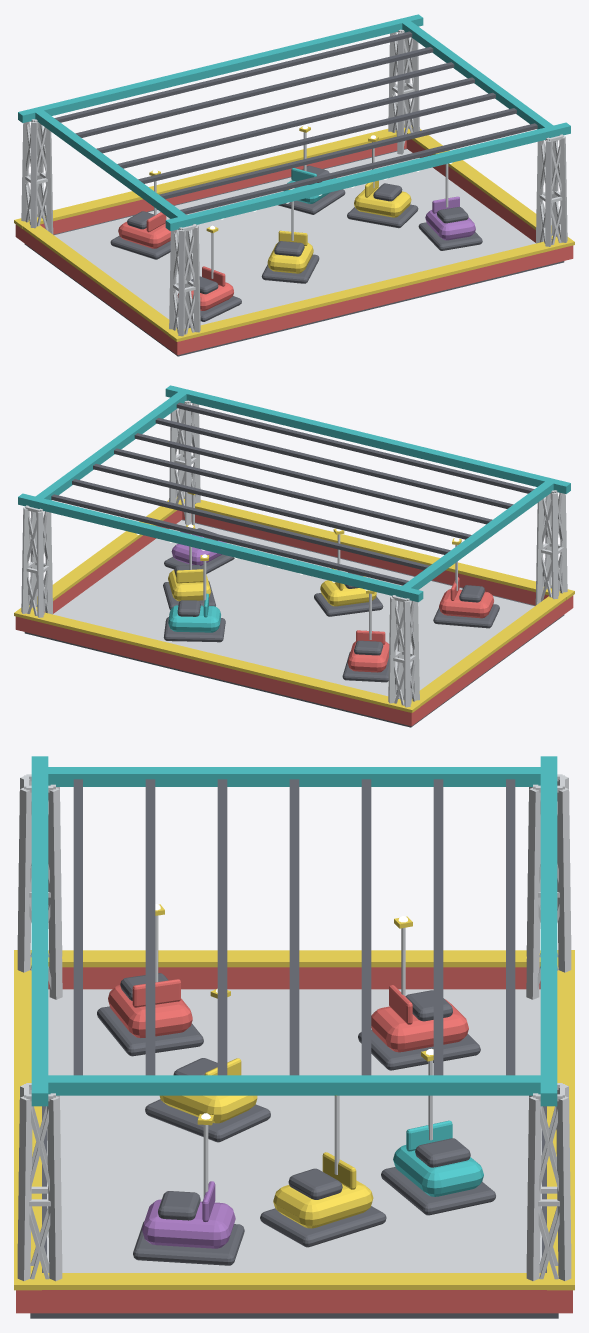
File: theme-park-rides-and-coasters-theme-park-rides-and-coa-c59d60f4__28661.glb
3 renders of one model, top to bottom at view 1: azimuth 30°, elevation 25°; view 2: azimuth 150°, elevation 25°; view 3: azimuth 270°, elevation 25°, orthographic. The views are drawn at different scales.
Visible parts, largest first — view 1: theme-park-rides-and-coasters-bumper-car-arena; view 2: theme-park-rides-and-coasters-bumper-car-arena; view 3: theme-park-rides-and-coasters-bumper-car-arena.
Part boxes in pixels (bbox=[...]): theme-park-rides-and-coasters-bumper-car-arena: bbox=[14, 14, 574, 356]; theme-park-rides-and-coasters-bumper-car-arena: bbox=[14, 385, 574, 727]; theme-park-rides-and-coasters-bumper-car-arena: bbox=[14, 756, 574, 1318].
Bounding box in the file's own units: 16.6 × 5.32 × 11.68.
